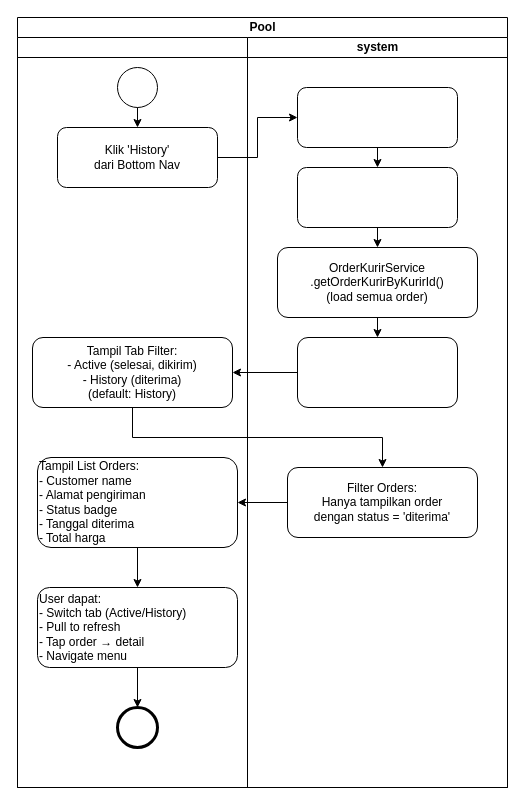
Some shapes in this 525 by 805 pixel diagram are drawn without their labels. The shapes that lost their labels are listed below. From the top down, each one's box as (x1, y1, x2, y2) in pixels, then its label:
(296, 86, 458, 148): Navigator.pushNamed (AppRoutes.kurirRiwayat)
(296, 166, 458, 228): AuthService.getCurrentUser() (get kurir ID)
(296, 336, 458, 408): For Each Order: Load Transaksi, Customer, Pembayaran
(16, 36, 248, 788): kurir
